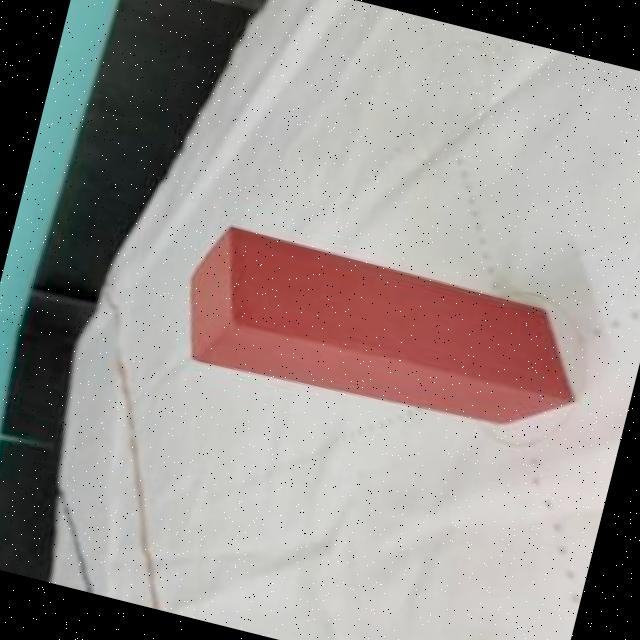redbox: (170, 214, 596, 451)
